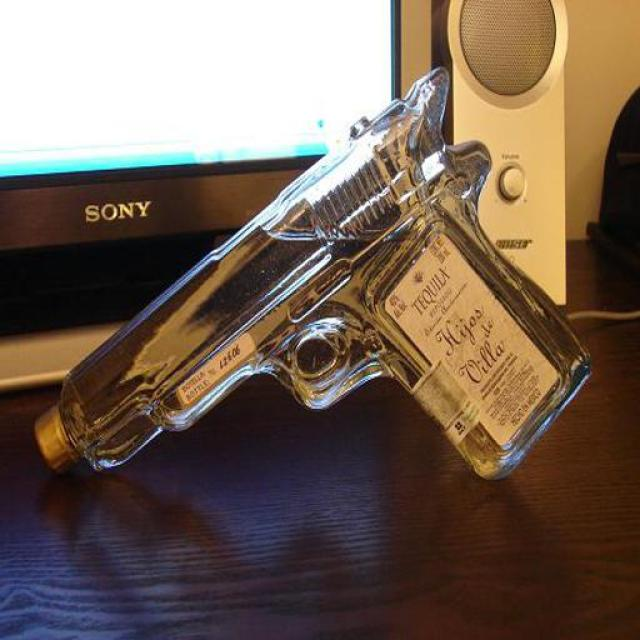pistol: (30, 66, 589, 482)
